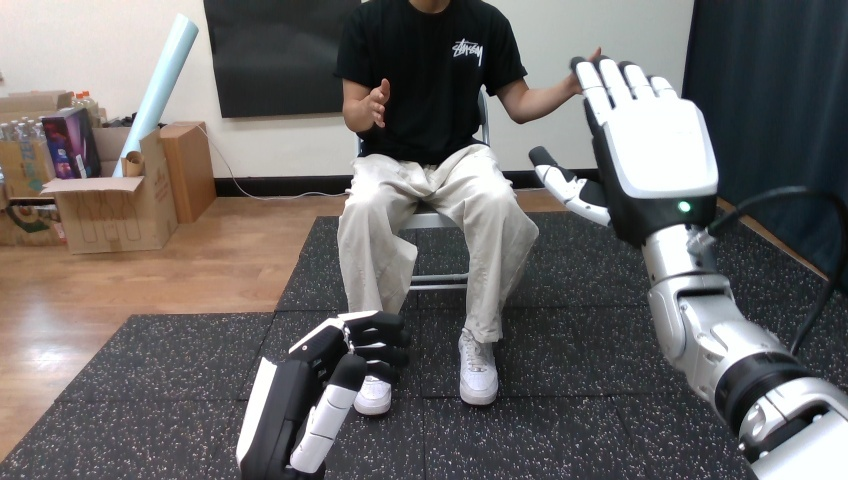left robot hand: (529, 58, 847, 478), (236, 311, 409, 478)
